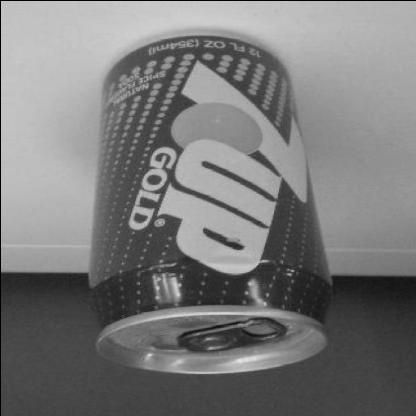alumunium_can: (86, 29, 334, 374)
